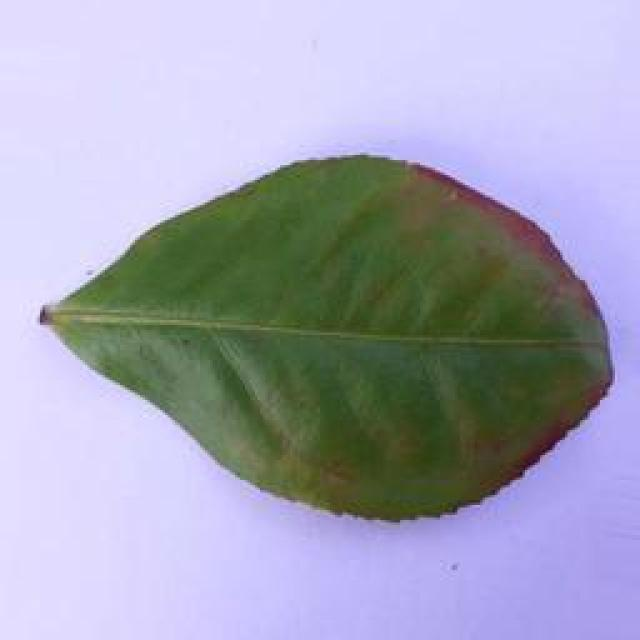Red Leaf Spot: (26, 139, 626, 542)
